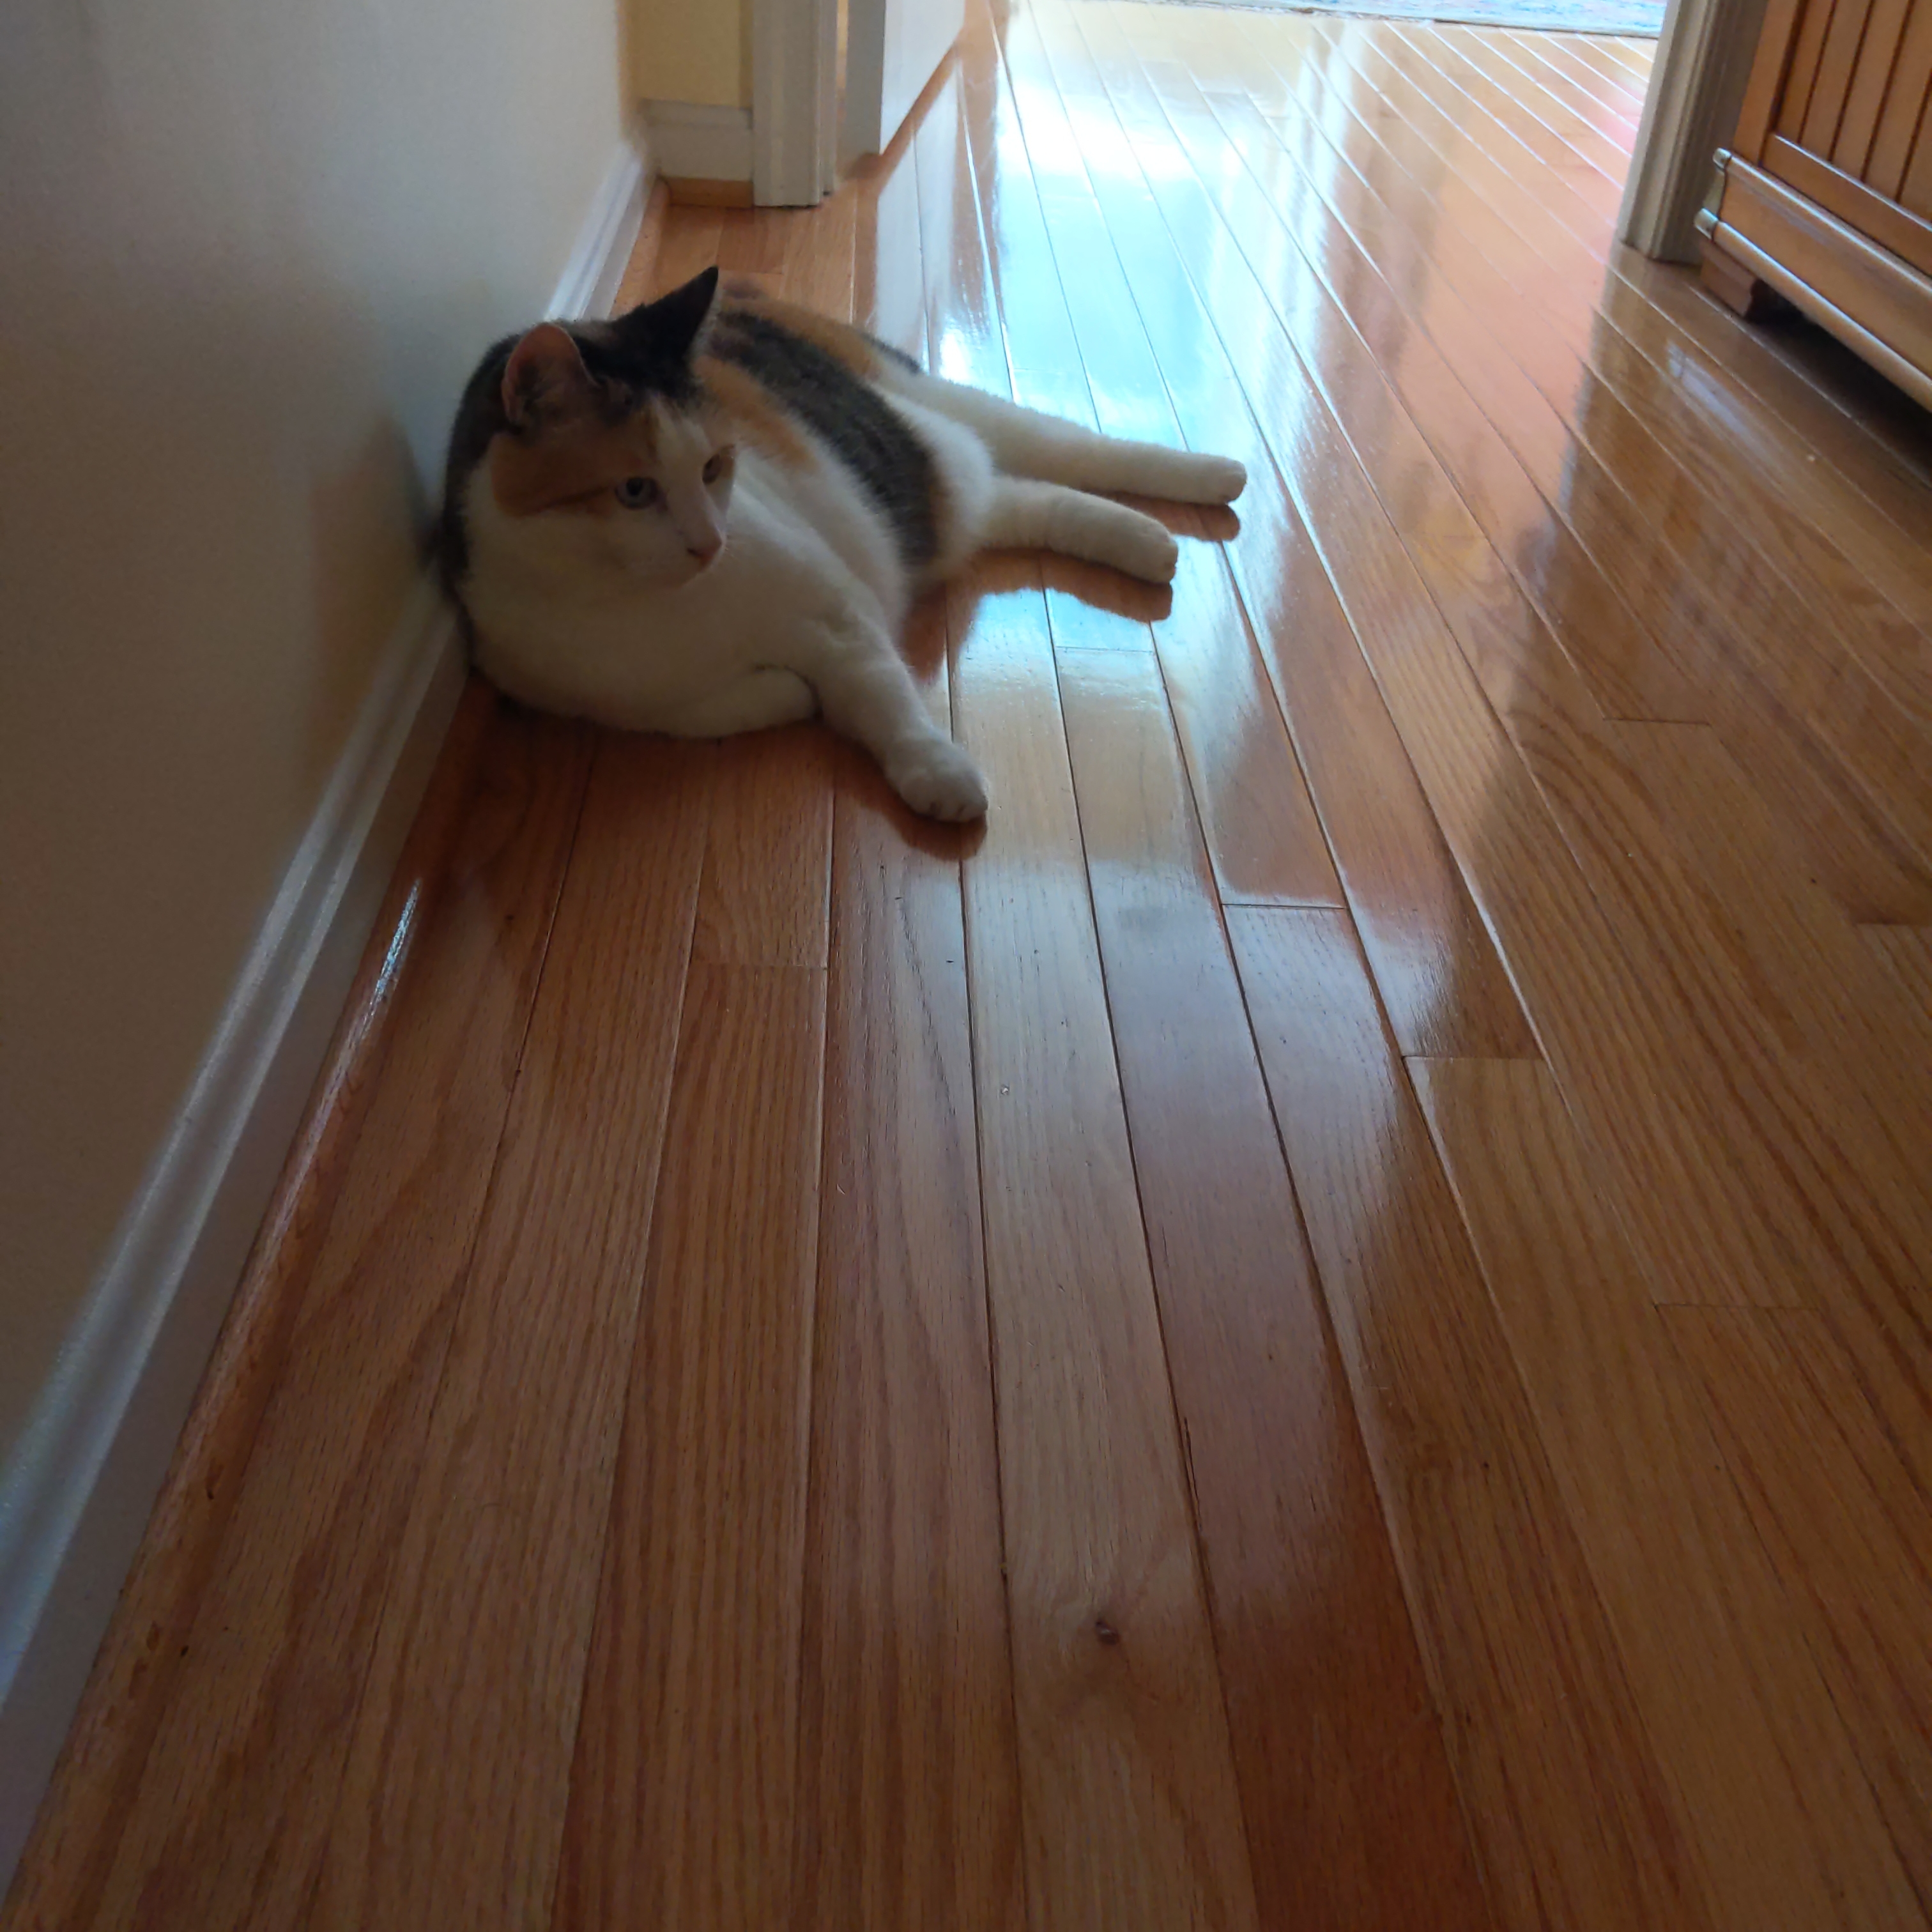Calico: (444, 267, 1247, 821)
